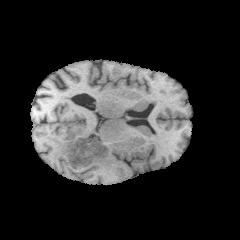glioma: (53, 129, 115, 171)
